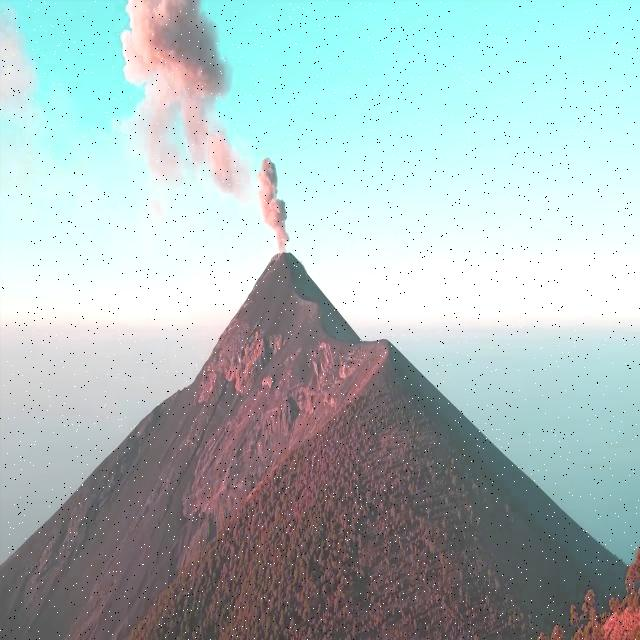Plume: (115, 1, 249, 204), (254, 154, 296, 253)
Summit: (201, 249, 388, 358)
